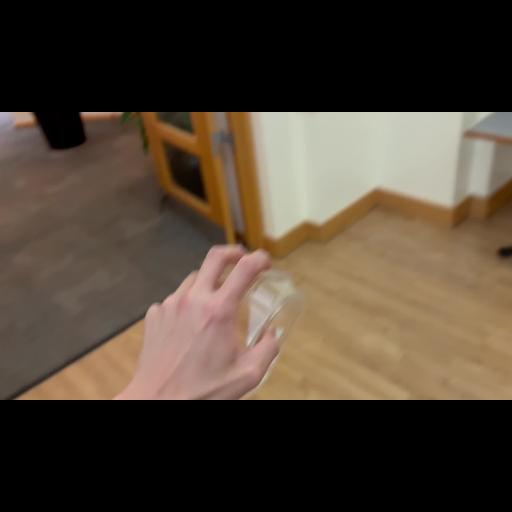small_plastic_container: (232, 266, 310, 400)
